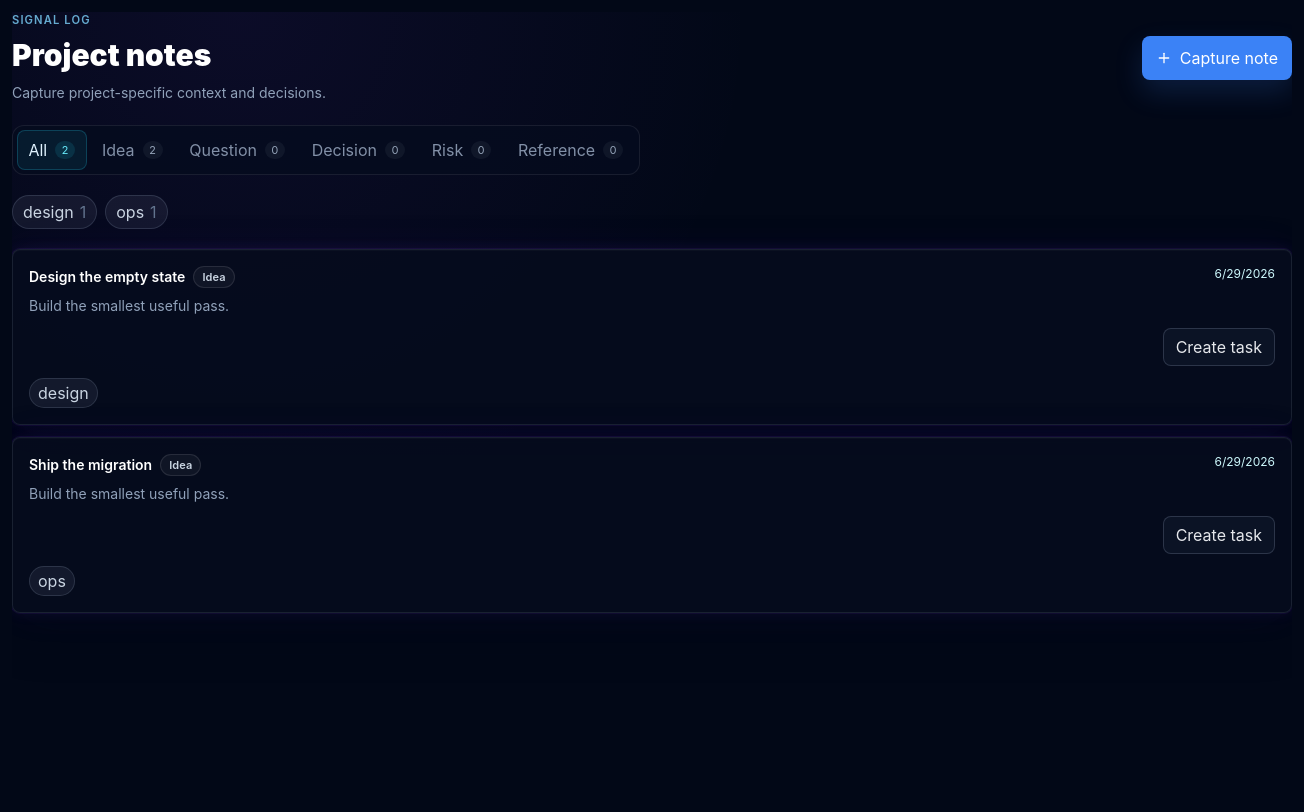
NotesPage › narrows to notes carrying a tag when its pill is pressed
The width and height of the screenshot is (1304, 812).
Expected: the heading "Ship the migration" is shown, left=29, top=455, right=152, bottom=475
Click the button "design 1" at x=55, y=212, box left=12, top=195, right=97, bottom=229
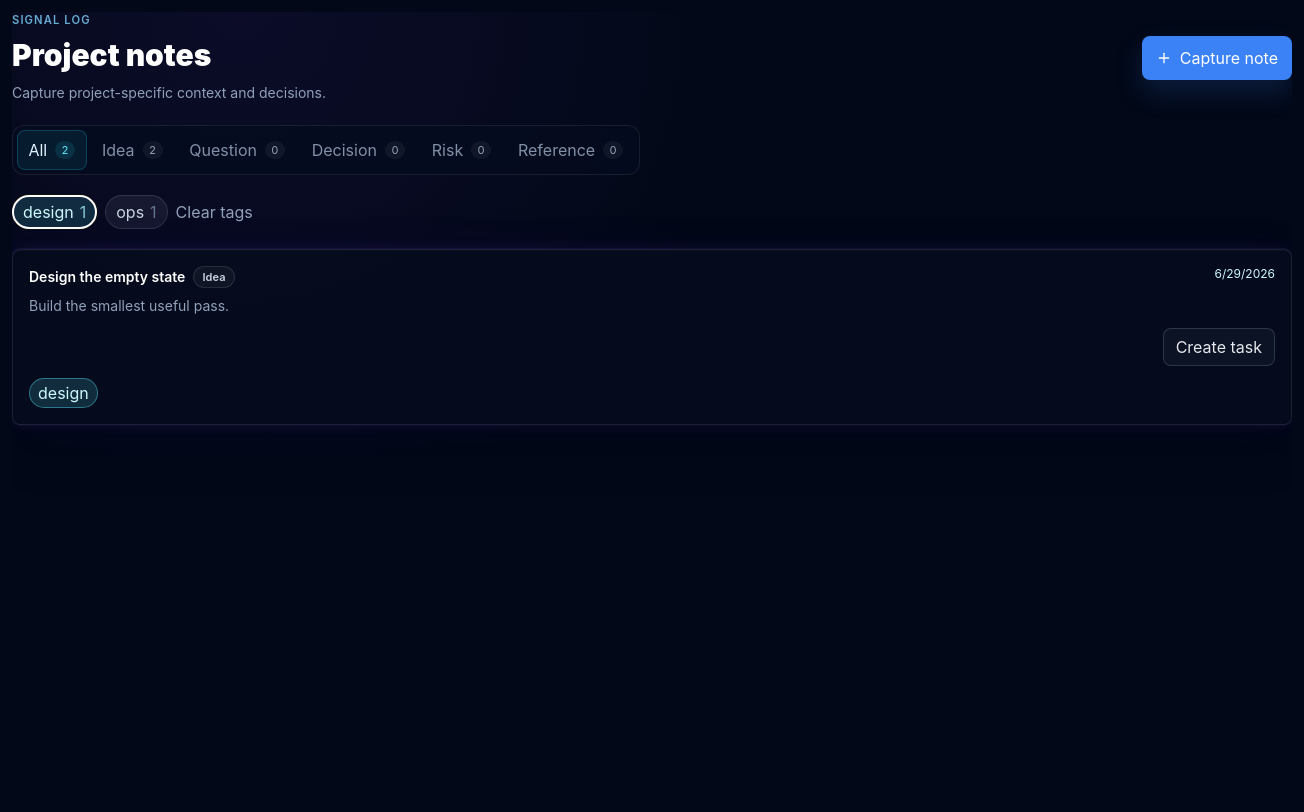
Expected: the heading "Design the empty state" is shown, left=29, top=267, right=185, bottom=287
Expected: the heading "Ship the migration" is gone
